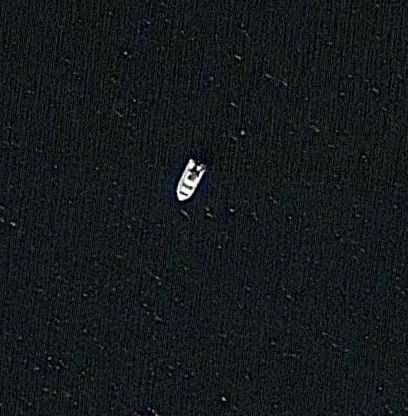boat: (175, 157, 208, 203)
